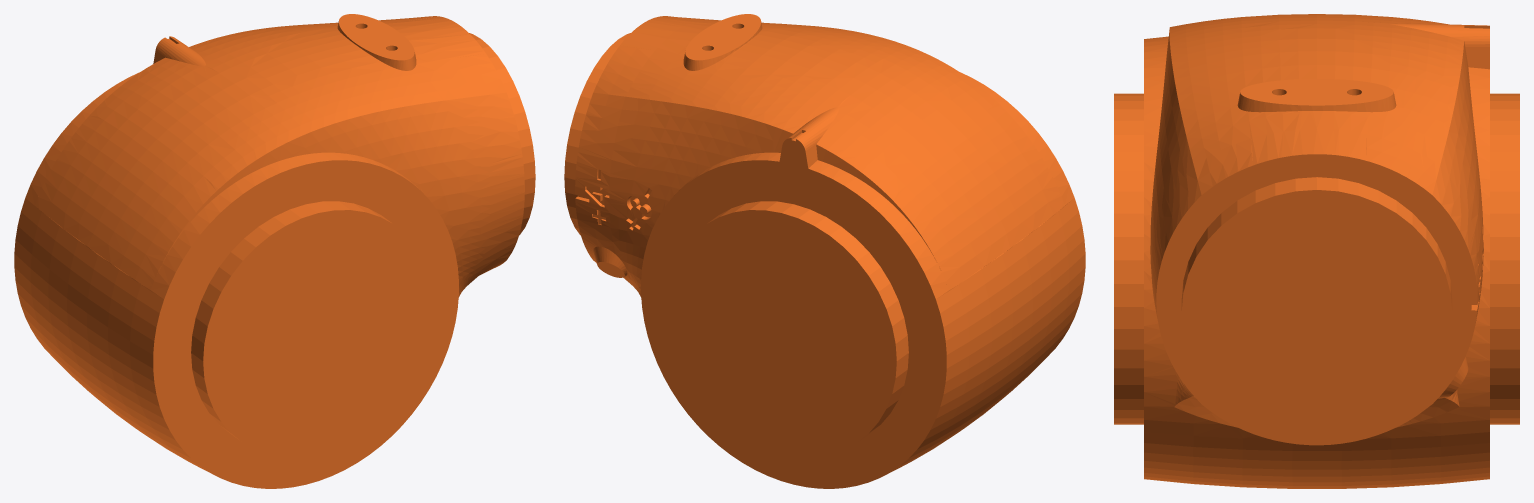
Rendered from middle.dae.
The picture shows the model from 3 angles, left to right: view 1: azimuth 30°, elevation 25°; view 2: azimuth 150°, elevation 25°; view 3: azimuth 270°, elevation 25°; orthographic projection. The views are drawn at different scales.
Visible parts, largest first — view 1: link_3; view 2: link_3; view 3: link_3.
Part boxes in pixels (x1=…): link_3: x1=14, y1=14, x2=535, y2=488; link_3: x1=564, y1=14, x2=1085, y2=488; link_3: x1=1114, y1=14, x2=1519, y2=488.
Size of the model in its own units: 1.93 by 1.35 by 1.69.
